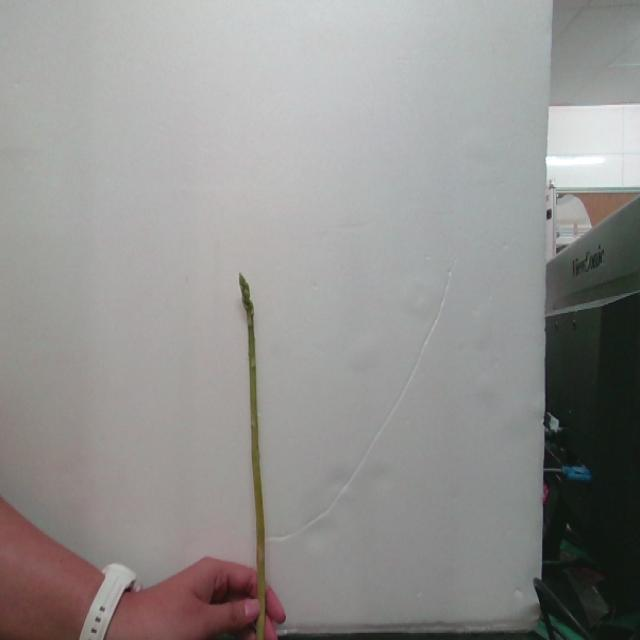aspargus: (239, 275, 274, 640)
